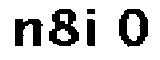0: (112, 7, 151, 51)
8: (48, 5, 81, 49)
i: (83, 4, 101, 52)
n: (8, 15, 43, 49)
